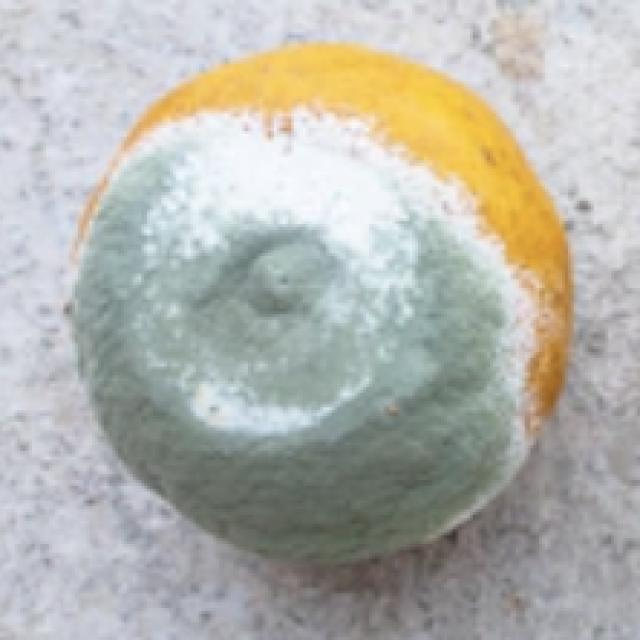sangat_busuk: (68, 46, 573, 557)
